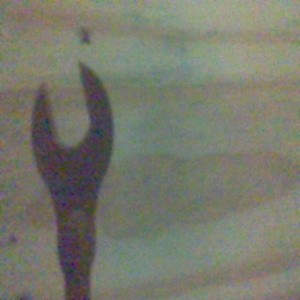spanner: (30, 58, 116, 300)
